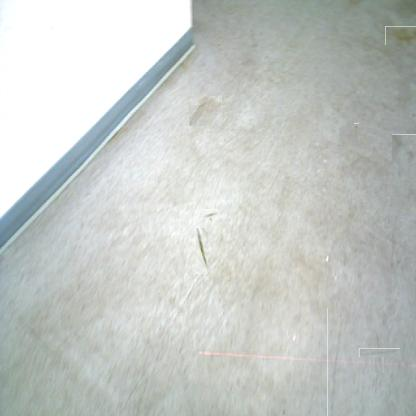liquid: (385, 26, 416, 45)
mark: (327, 308, 342, 416), (190, 96, 224, 126), (392, 134, 416, 163), (367, 340, 392, 365), (196, 228, 208, 274), (204, 208, 217, 220), (353, 123, 359, 130)
